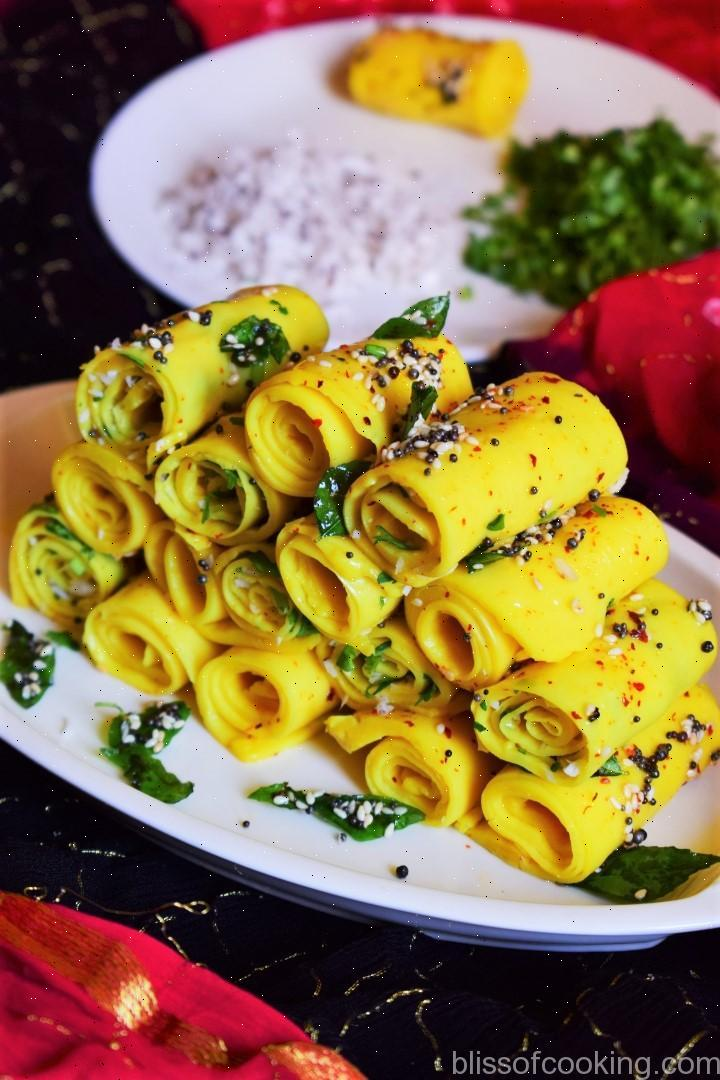khandvi: (30, 300, 720, 910)
